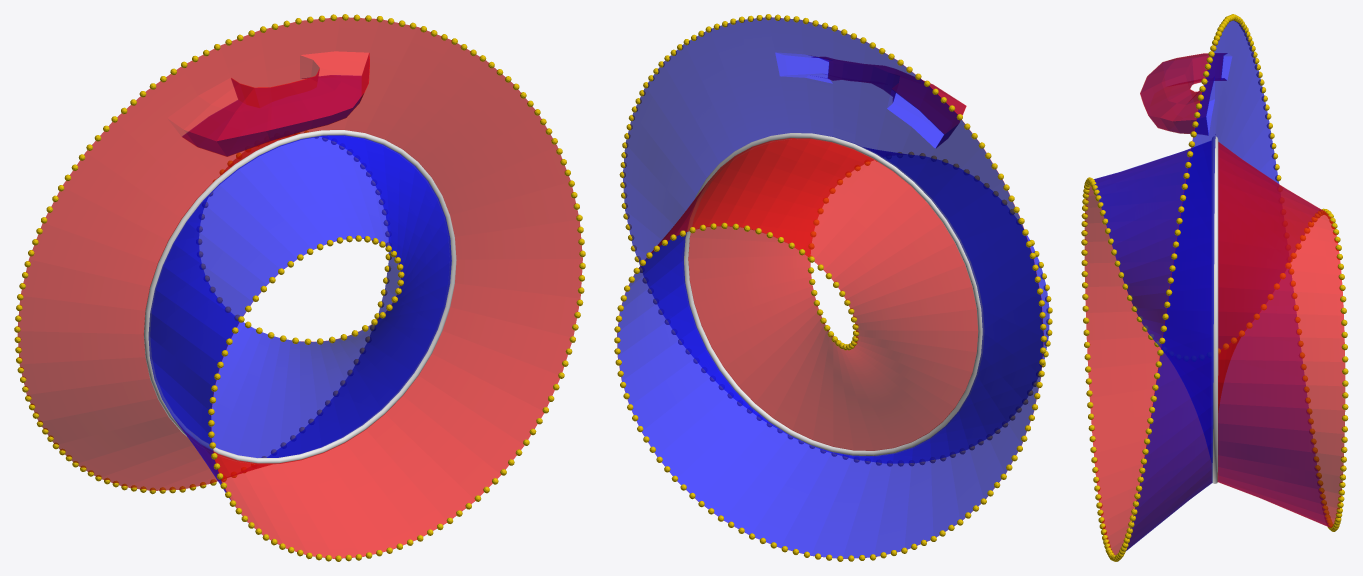
The model's file is l3_1_handle.glb.
3 views of the same model, side by side, from view 1: azimuth 30°, elevation 25°; view 2: azimuth 150°, elevation 25°; view 3: azimuth 270°, elevation 25° (orthographic). The views are drawn at different scales.
Parts seen in each view (by area): view 1: l3_1, Icosphere, sing; view 2: l3_1, Icosphere, sing; view 3: l3_1, Icosphere, sing.
Part boxes in pixels (x1,y1,x2,y2): l3_1: [17, 17, 582, 558]; Icosphere: [14, 14, 585, 561]; sing: [144, 130, 456, 463]; l3_1: [617, 17, 1049, 558]; Icosphere: [614, 14, 1052, 561]; sing: [682, 133, 984, 456]; l3_1: [1084, 20, 1345, 555]; Icosphere: [1081, 14, 1348, 561]; sing: [1212, 136, 1218, 483].
Size of the model in its own units: 171 by 163 by 81.47.
